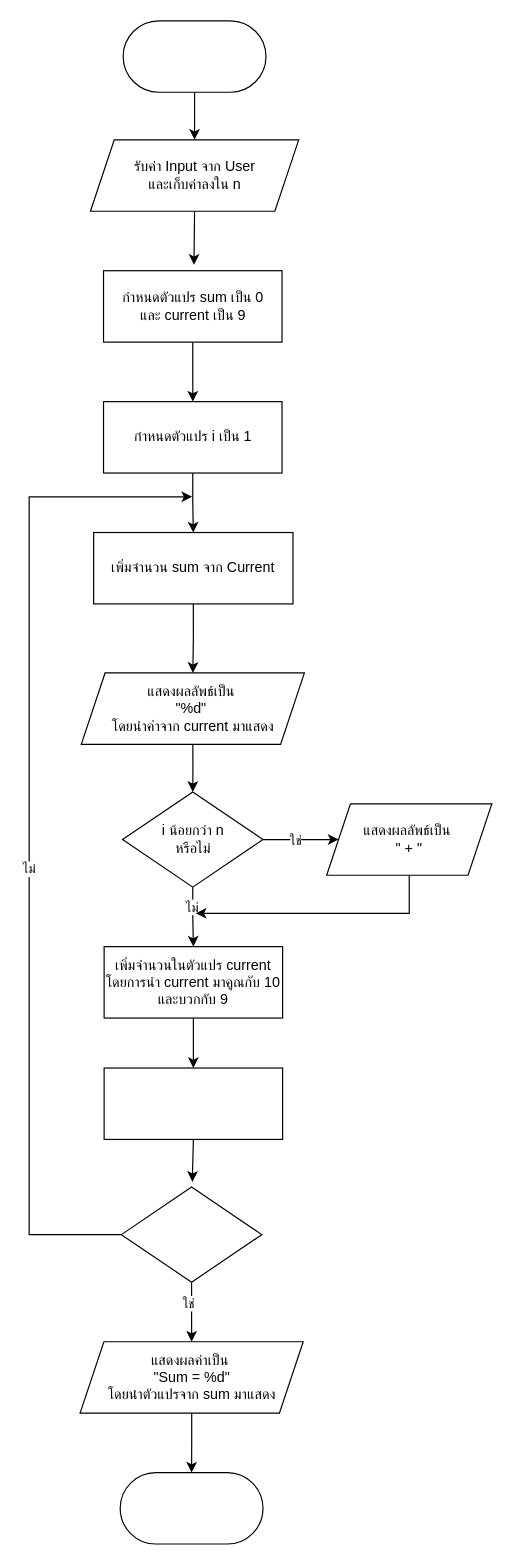
Image size: 513x1565. Some labels were removed from this diagram. The shapes that lost their labels are listed below. From the top down, each one's centre as x and y in pixels, then its label:
At point 194,56: "Start".
At point 193,1103: "เพิ่มจำนวนเลขในตัวแปร i".
At point 191,1234: "i น้อยกว่าเท่ากับ n หรือไม่".
At point 191,1507: "End".
